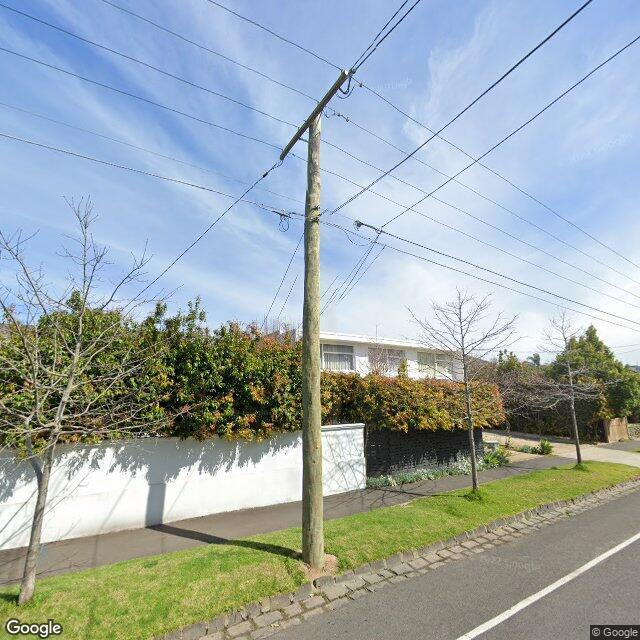crossarm: (280, 70, 349, 162)
timber-pole: (302, 115, 322, 568)
